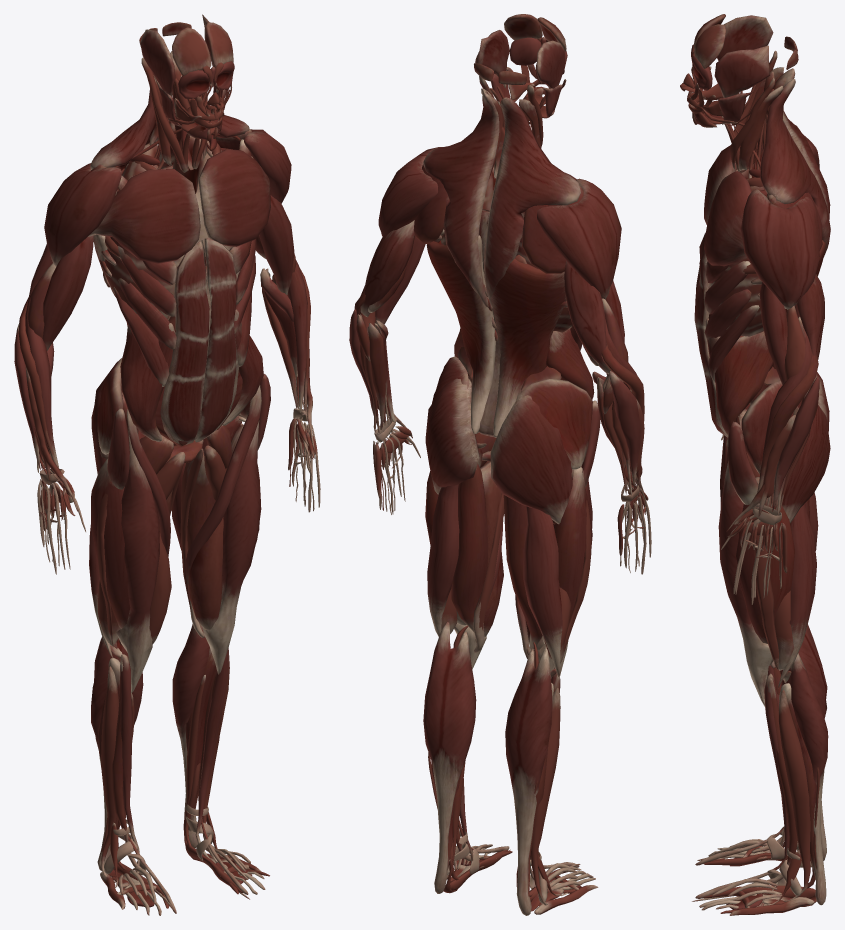
File: Human_muscle_tissue.gltf
The picture shows the model from 3 angles, left to right: view 1: azimuth 30°, elevation 25°; view 2: azimuth 150°, elevation 25°; view 3: azimuth 270°, elevation 25°; orthographic projection. The views are drawn at different scales.
Parts seen in each view (by area): view 1: Human muscle tissue1, Human muscle tissue2, Human muscle tissue3; view 2: Human muscle tissue1, Human muscle tissue3, Human muscle tissue2; view 3: Human muscle tissue1, Human muscle tissue2, Human muscle tissue3.
Boxes of the visible parts, box(x1,y1,x2,y2) form: Human muscle tissue1: box(14, 14, 307, 907); Human muscle tissue2: box(25, 22, 320, 913); Human muscle tissue3: box(18, 57, 310, 915); Human muscle tissue1: box(349, 30, 640, 915); Human muscle tissue3: box(354, 63, 644, 911); Human muscle tissue2: box(359, 14, 651, 914); Human muscle tissue1: box(691, 15, 830, 909); Human muscle tissue2: box(680, 14, 819, 915); Human muscle tissue3: box(691, 50, 825, 913).
Size of the model in its own units: 58 by 169 by 26.56.
3 materials, 3 textured.
